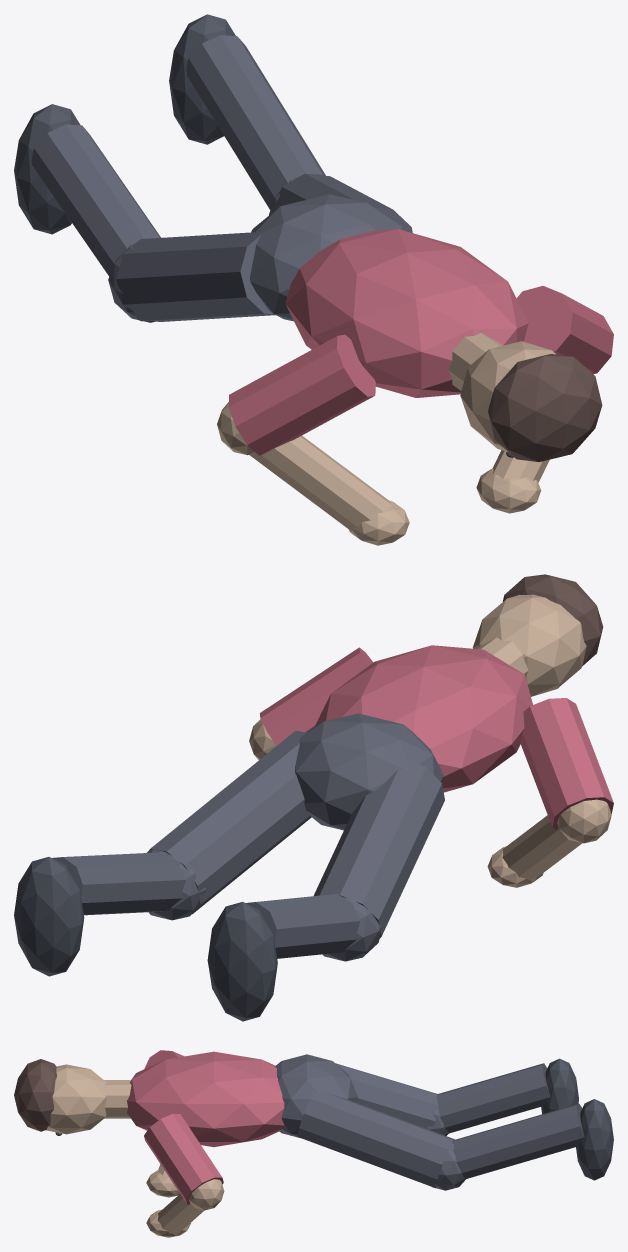
3 views of the same model, one above another, from view 1: azimuth 30°, elevation 25°; view 2: azimuth 150°, elevation 25°; view 3: azimuth 270°, elevation 25° (orthographic). The views are drawn at different scales.
Visible parts, largest first — view 1: world; view 2: world; view 3: world.
Part boxes in pixels (left/top/right/bottom): world: left=14, top=14, right=613, bottom=545; world: left=14, top=574, right=613, bottom=1021; world: left=14, top=1050, right=613, bottom=1237.
Size of the model in its own units: 0.93 by 0.565 by 2.
